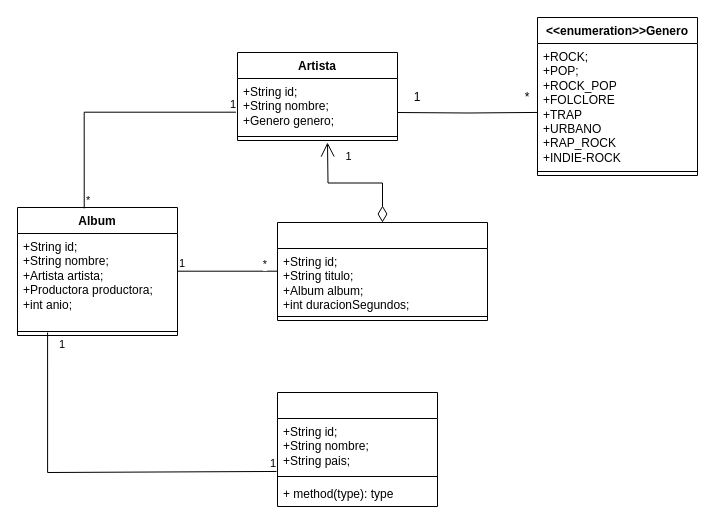
Image size: 715x527. Some labels were removed from this diagram. Each missing label, with the box of its shape:
Cancion: (276, 222, 488, 320)
Productora: (276, 392, 438, 506)
